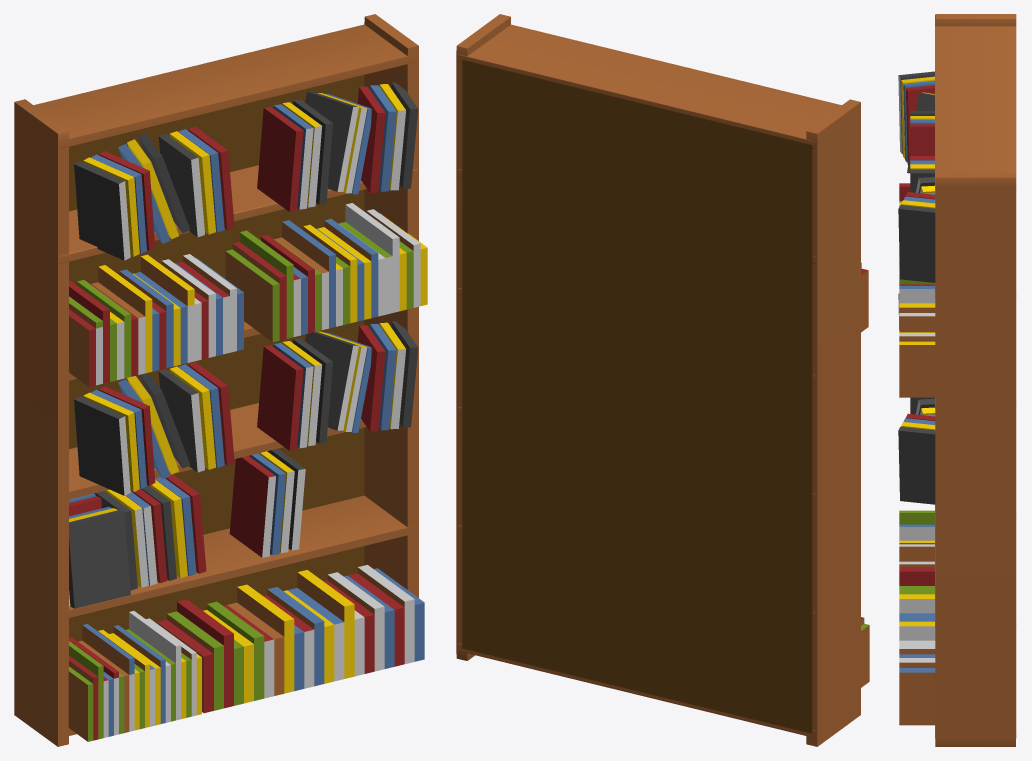
The model's file is Book shelf 1.fbx.
3 renders of one model, left to right at view 1: azimuth 30°, elevation 25°; view 2: azimuth 150°, elevation 25°; view 3: azimuth 270°, elevation 25°, orthographic. The views are drawn at different scales.
Visible parts, largest first — view 1: Shelf_Back.003; view 2: Shelf_Back.003; view 3: Shelf_Back.003.
Part boxes in pixels (box(x1,y1,x2,y2)): Shelf_Back.003: box(14, 14, 427, 746); Shelf_Back.003: box(456, 14, 869, 746); Shelf_Back.003: box(898, 14, 1016, 746).
Size of the model in its own units: 124 by 202 by 38.24.
